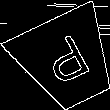P_SE: (37, 30, 96, 92)
